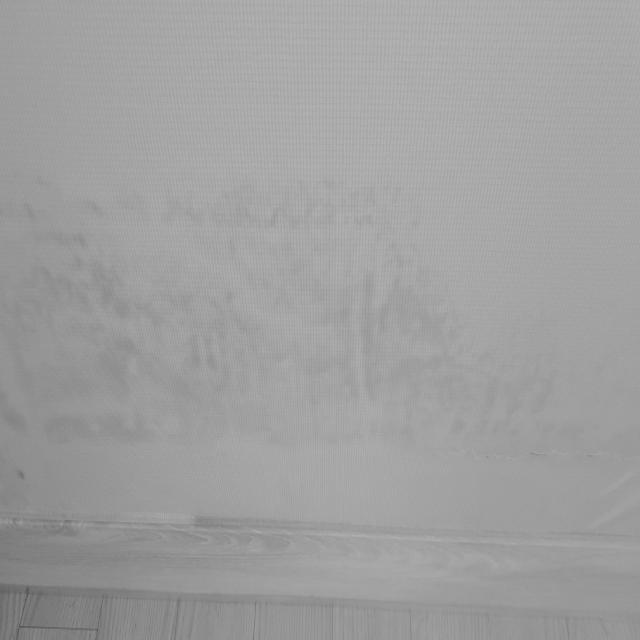stain marks: (6, 162, 640, 487)
